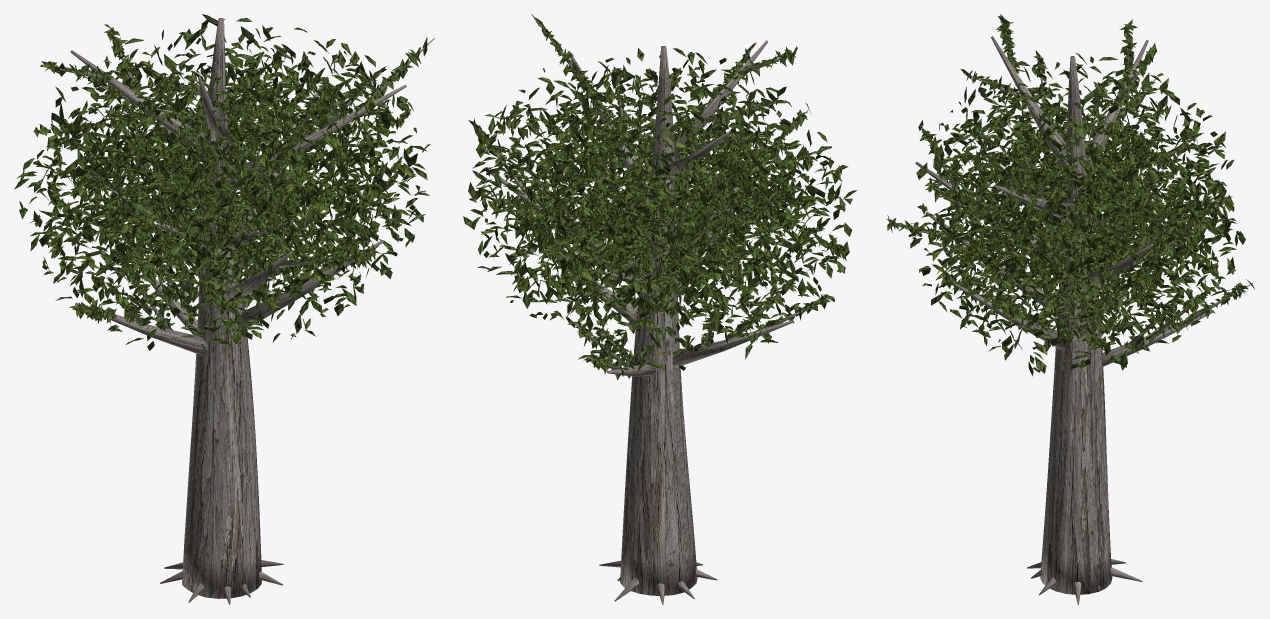
The model's file is watchtower-leafy-oak-v01.glb.
3 renders of one model, left to right at view 1: azimuth 30°, elevation 25°; view 2: azimuth 150°, elevation 25°; view 3: azimuth 270°, elevation 25°, orthographic. The views are drawn at different scales.
Parts seen in each view (by area): view 1: watchtower-leafy-oak-v01; view 2: watchtower-leafy-oak-v01; view 3: watchtower-leafy-oak-v01.
Part boxes in pixels (x1,y1,x2,y2): watchtower-leafy-oak-v01: (14, 14, 434, 604); watchtower-leafy-oak-v01: (463, 14, 857, 604); watchtower-leafy-oak-v01: (886, 14, 1254, 604).
Bounding box in the file's own units: 5.58 × 8.01 × 5.15.
Materials: 2 (2 with a texture image).
